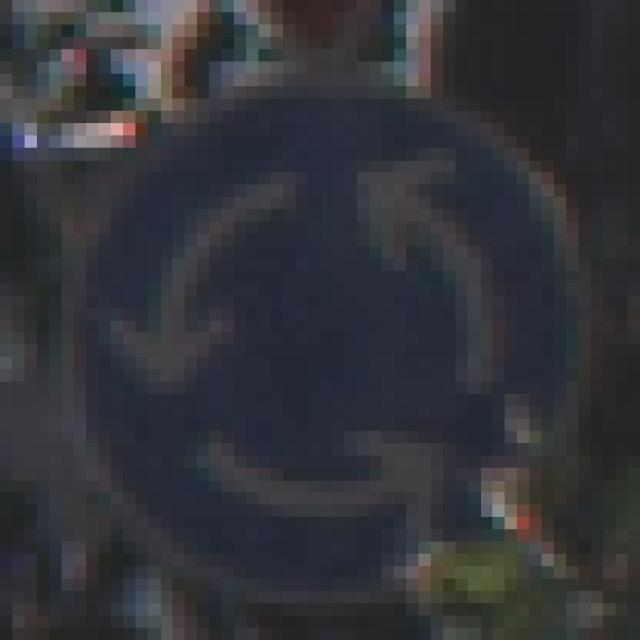Round-About: (37, 74, 603, 615)
